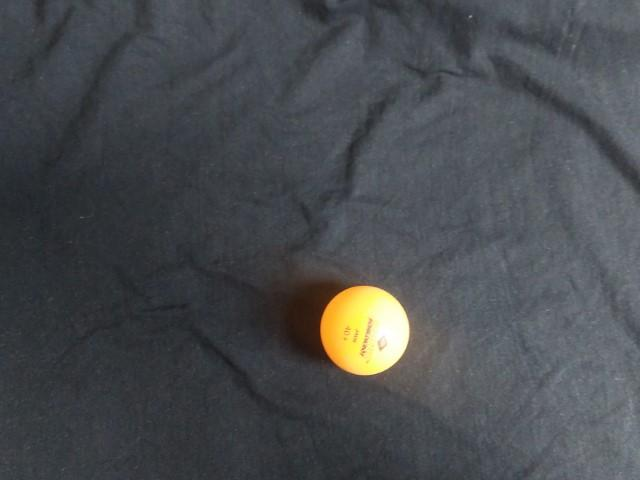oball: (219, 99, 328, 206)
